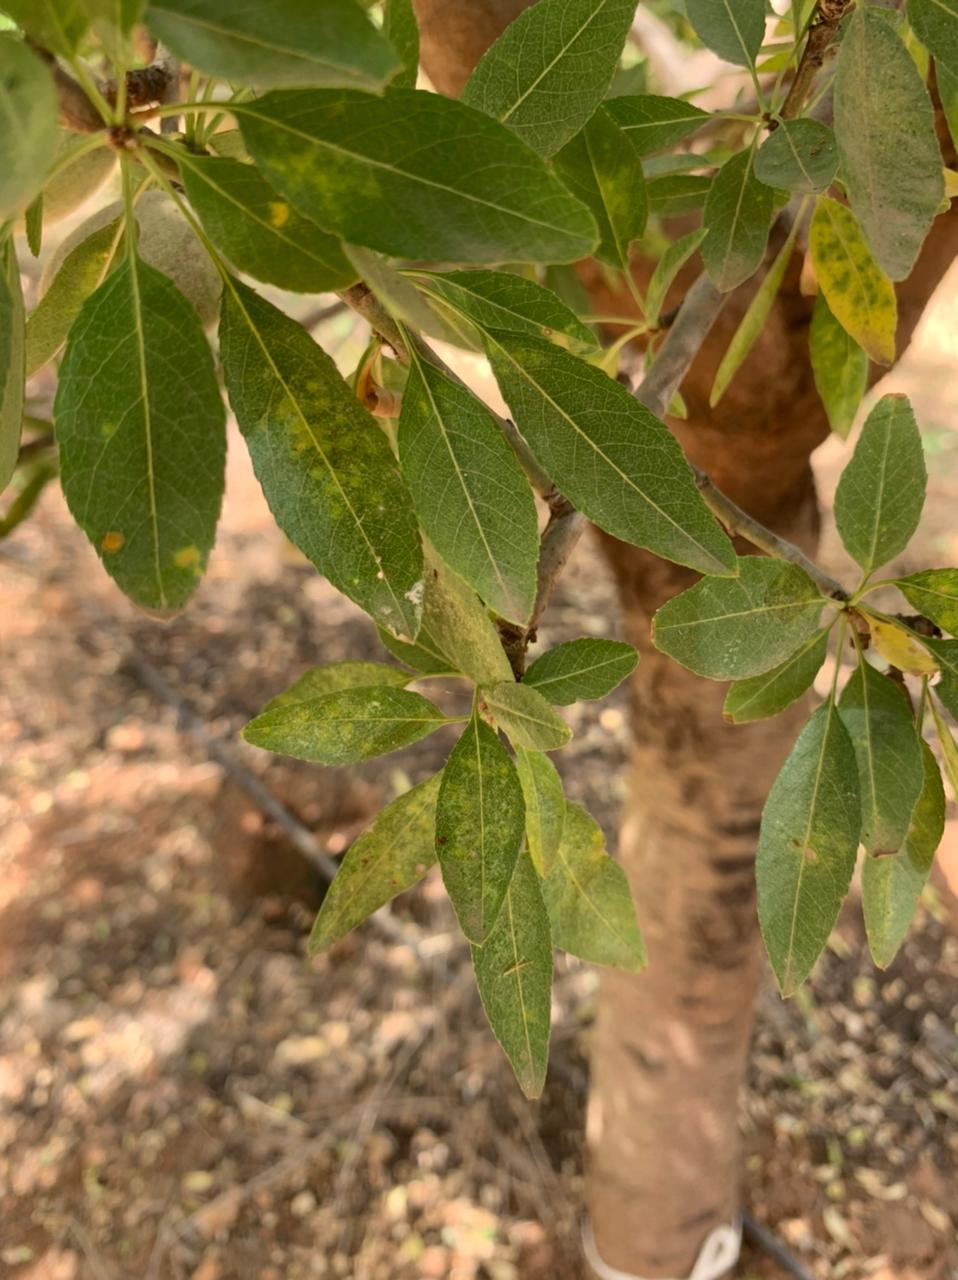acariens: (220, 271, 424, 645)
othyorinques: (650, 558, 823, 683)
